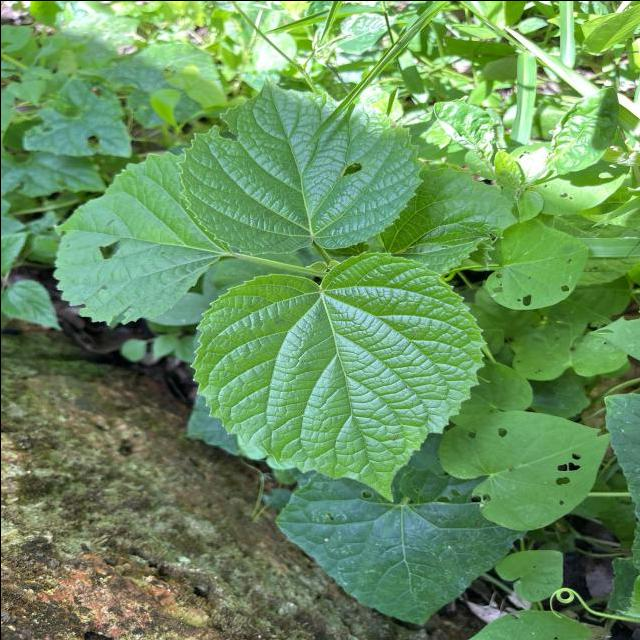Clerodendrum infortunatum: (187, 250, 488, 503), (172, 71, 427, 256)
